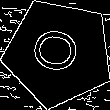O_E: (29, 27, 88, 79)
